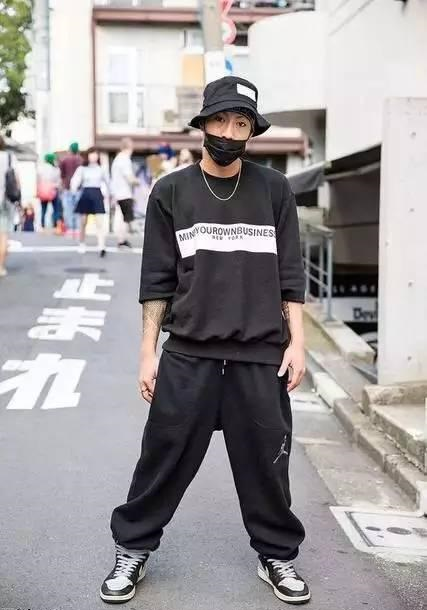face_mask: (205, 100, 248, 166)
